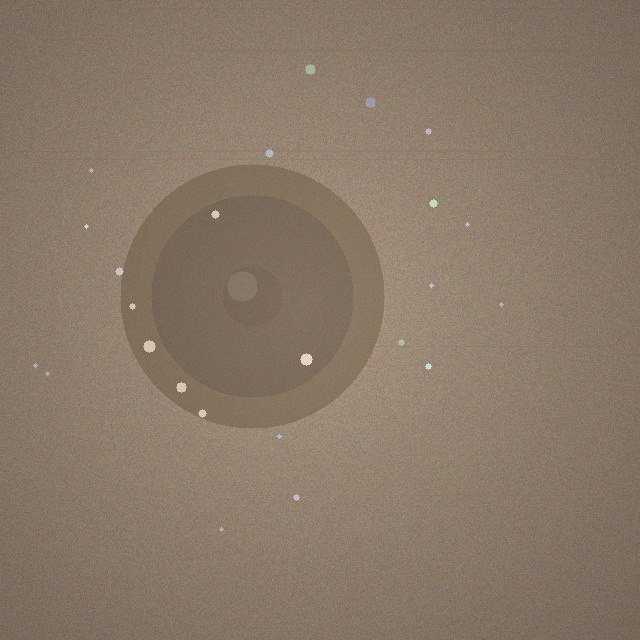overburn: (120, 164, 384, 428)
